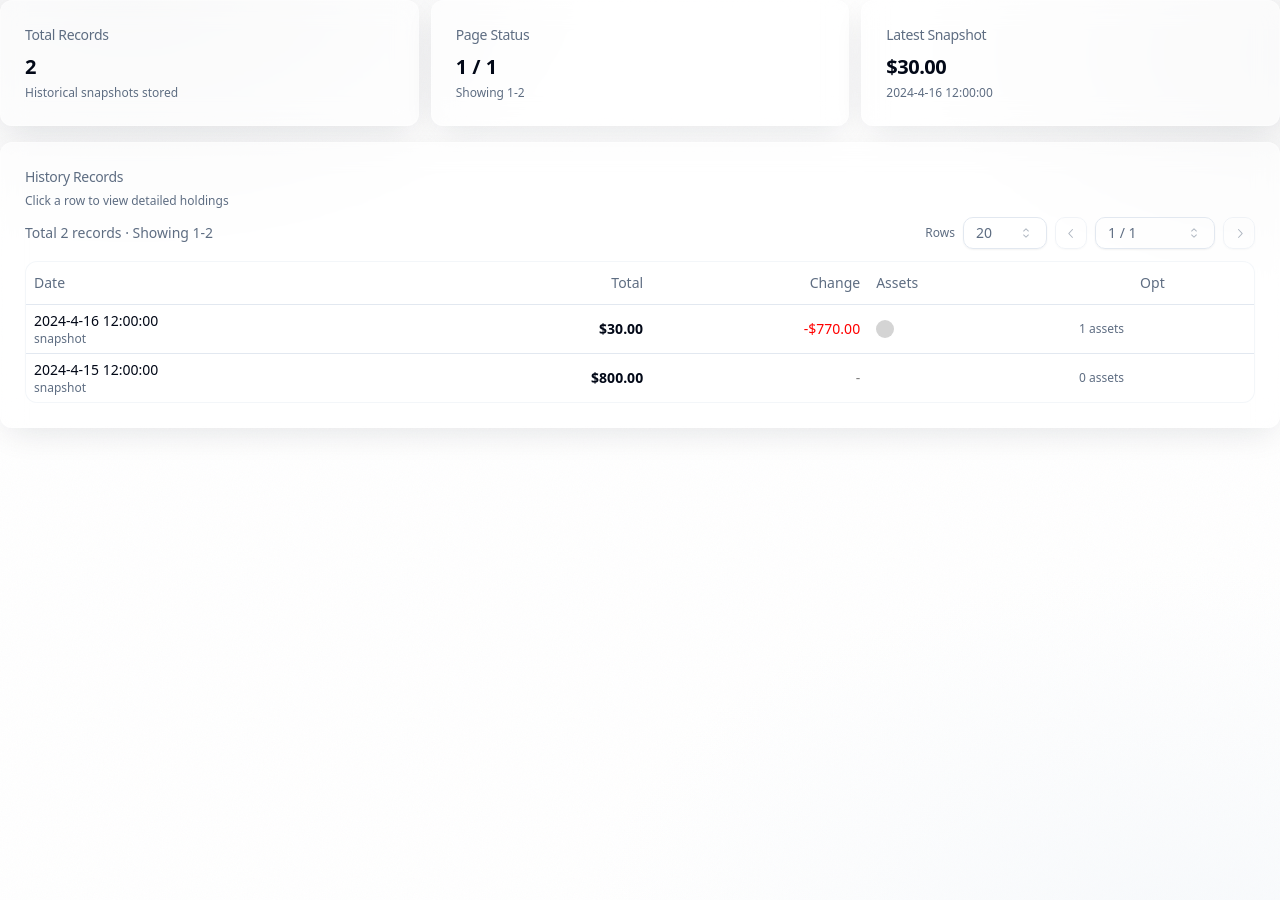
Test case: Historical-data — delete does not flash loading overlay › keeps the other wallet's value when deleting a grouped detail asset
The width and height of the screenshot is (1280, 900).
What coordinates should you click on to do the following:
click the text "snapshot" in the row of "-$770.00"
I would click on:
 (60, 338)
Its box is [34,330,86,346].
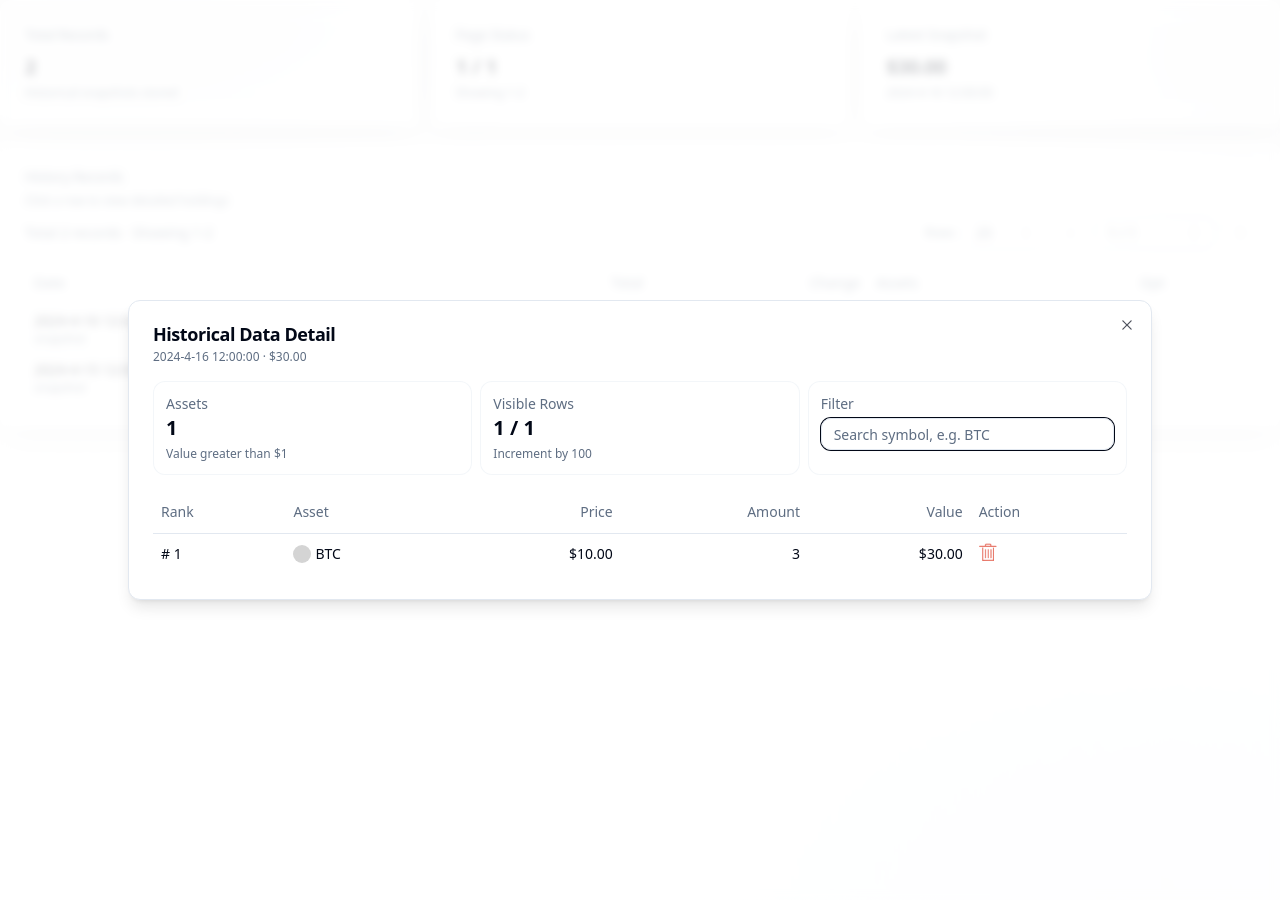
What coordinates should you click on to do the following:
click the button named "delete"
I would click on:
 (988, 552)
Its box is [979,543,997,561].
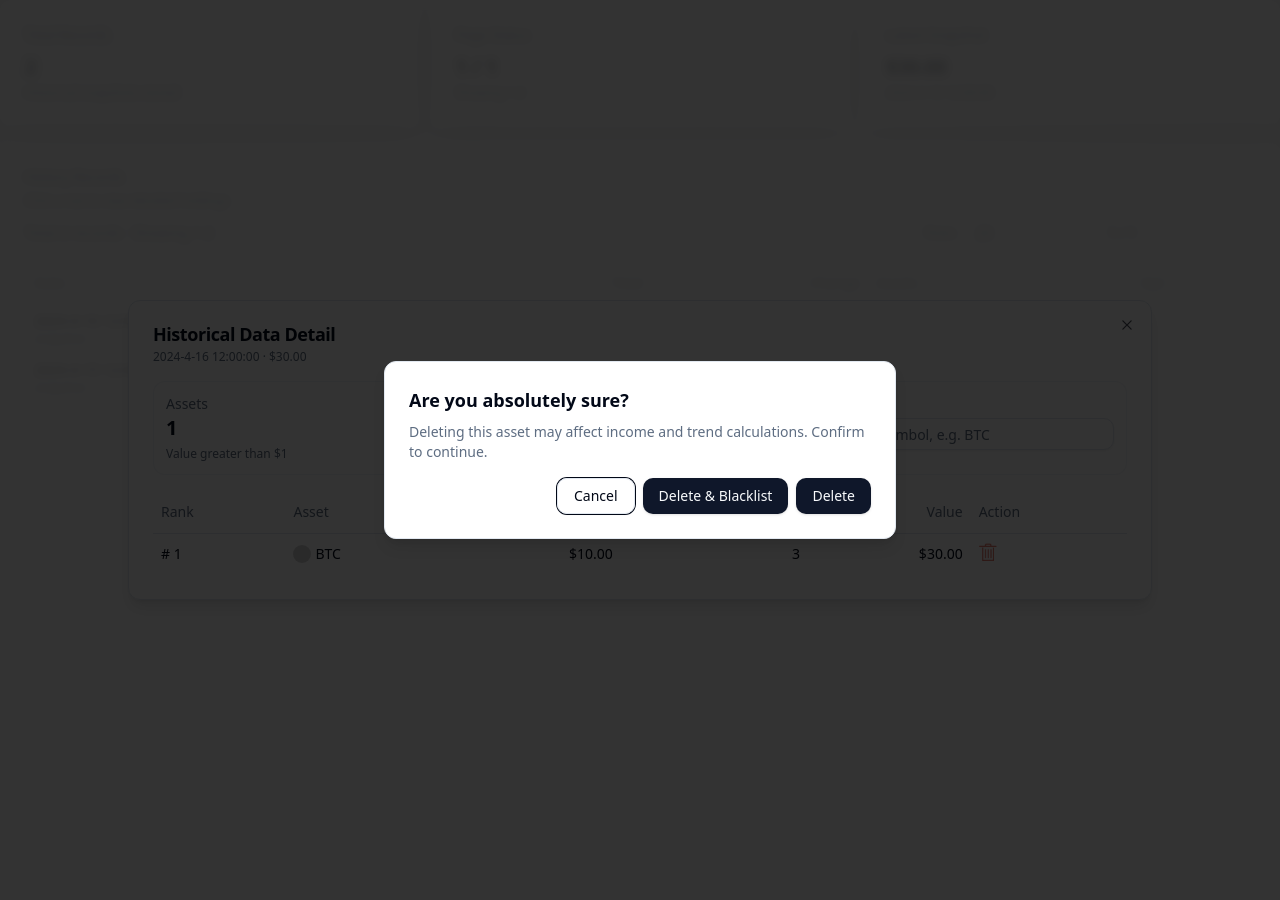
What coordinates should you click on to do the following:
click the button "Delete"
I would click on:
 (834, 496)
Its box is [796,478,871,514].
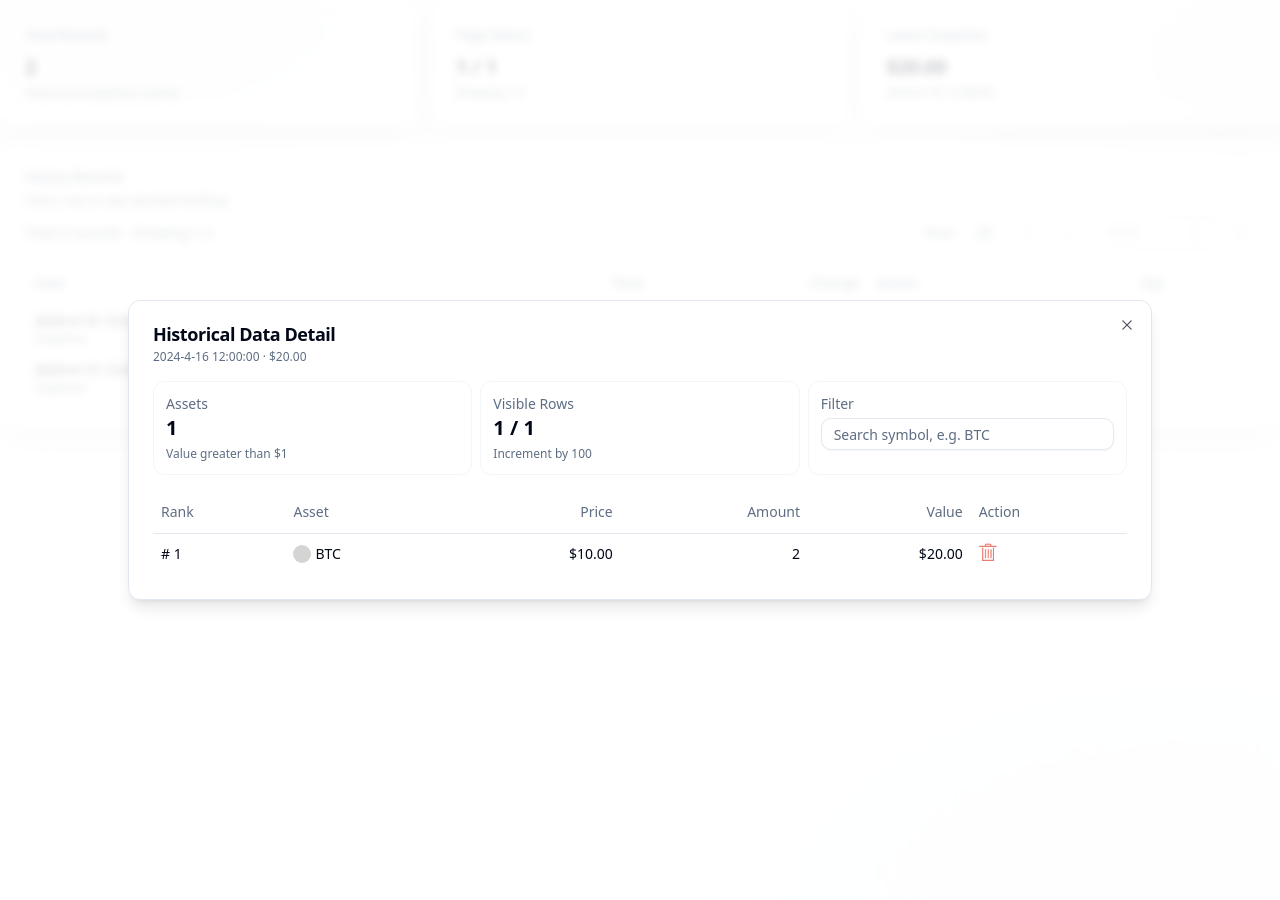
Expected: the dialog "Historical Data Detail" shows "BTC", [316,544,341,563]
Expected: the row with test id "history-snapshot-row" shows "$20.00", [26,304,1254,353]
